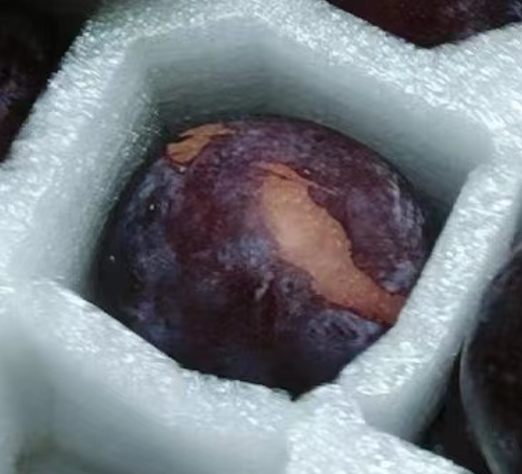plum_C: (94, 119, 436, 403)
